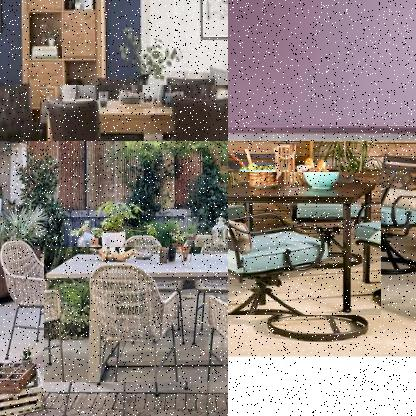table: (42, 247, 227, 384), (228, 172, 381, 317), (39, 84, 227, 140)
